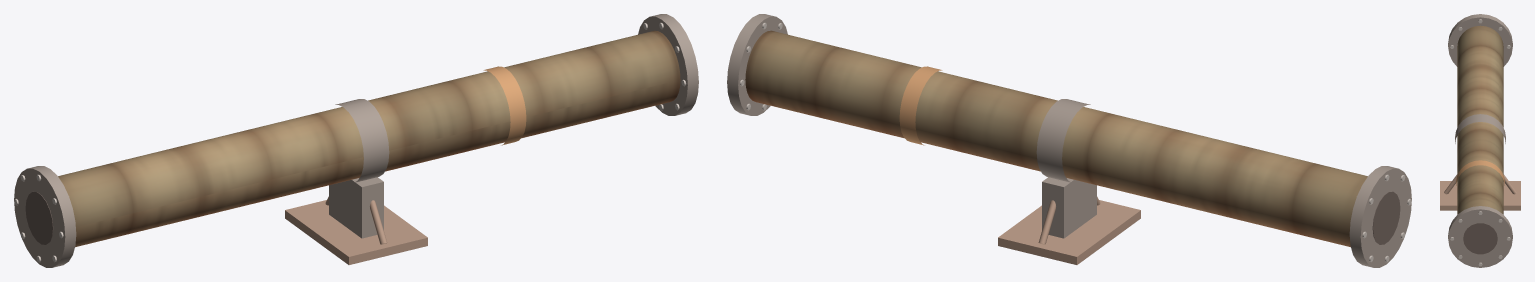
Rendered from D11_pipe_segment_4m.glb.
3 views of the same model, side by side, from view 1: azimuth 30°, elevation 25°; view 2: azimuth 150°, elevation 25°; view 3: azimuth 270°, elevation 25° (orthographic). The views are drawn at different scales.
Parts seen in each view (by area): view 1: pipe, flange (×2), support_base, support_pedestal, support_clamp, marker_band, bore; view 2: pipe, flange (×2), support_base, support_pedestal, support_clamp, marker_band, bore; view 3: pipe, flange (×2), support_base, bore, support_clamp, marker_band, support_brace (×2).
Part boxes in pixels (box(x1,y1,x2,y2)): pipe: box(58, 30, 680, 247); flange (×2): box(14, 14, 698, 267); support_base: box(285, 200, 427, 264); support_pedestal: box(329, 177, 383, 238); support_clamp: box(335, 99, 389, 182); marker_band: box(483, 66, 526, 145); bore: box(25, 191, 53, 244); pipe: box(745, 30, 1367, 247); flange (×2): box(727, 14, 1411, 267); support_base: box(998, 200, 1140, 264); support_pedestal: box(1042, 177, 1096, 238); support_clamp: box(1036, 99, 1090, 182); marker_band: box(899, 66, 942, 145); bore: box(1372, 191, 1400, 244); pipe: box(1457, 25, 1503, 214); flange (×2): box(1448, 14, 1512, 267); support_base: box(1440, 181, 1520, 210); bore: box(1463, 223, 1497, 254); support_clamp: box(1455, 114, 1505, 143); marker_band: box(1456, 160, 1504, 185); support_brace (×2): box(1444, 174, 1516, 194).
Size of the model in its own units: 4.02 by 0.83 by 0.7.
6 materials, 1 textured.
